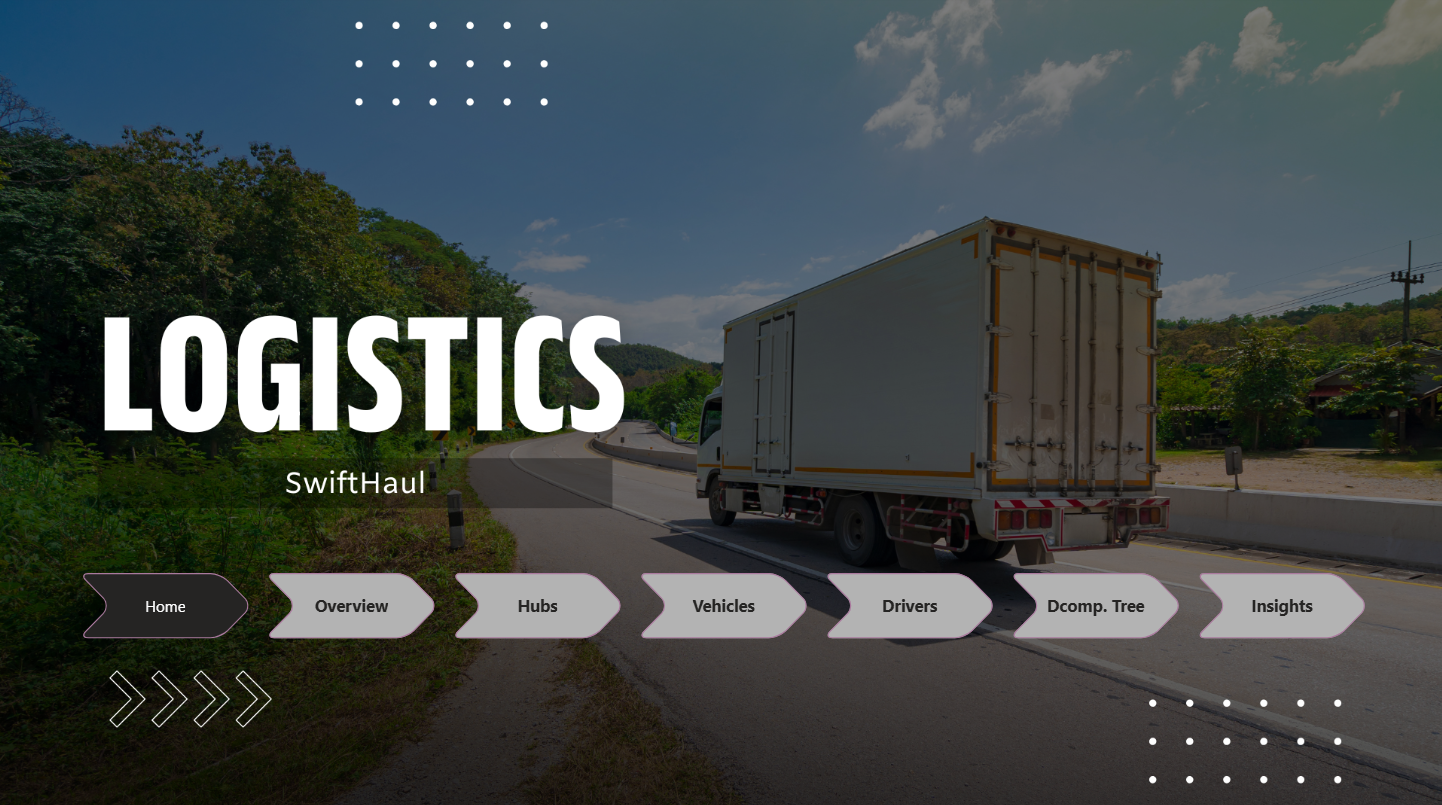

This screenshot's page, from the dashboard's own definition file:
{"tool":"powerbi","page":{"name":"Home","canvas":[1280,720],"ordinal":0},"visuals":[{"type":"image","box":[0,0,1280,721.2],"z":0},{"type":"pageNavigator","box":[69.6,512,1145.8,58],"z":1000}]}

Visuals, with their boxes in screenshot pixels (x1, y1, x2, y2), scaled from the page's 1280x720 canvas onto the 1442x805 screenshot:
image: BBox(0, 0, 1441, 804)
pageNavigator: BBox(78, 572, 1369, 637)
